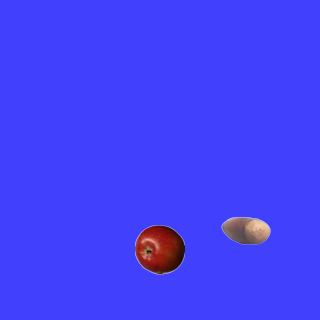Apple Braeburn: (134, 224, 184, 274)
Hazelnut: (220, 205, 270, 255)
